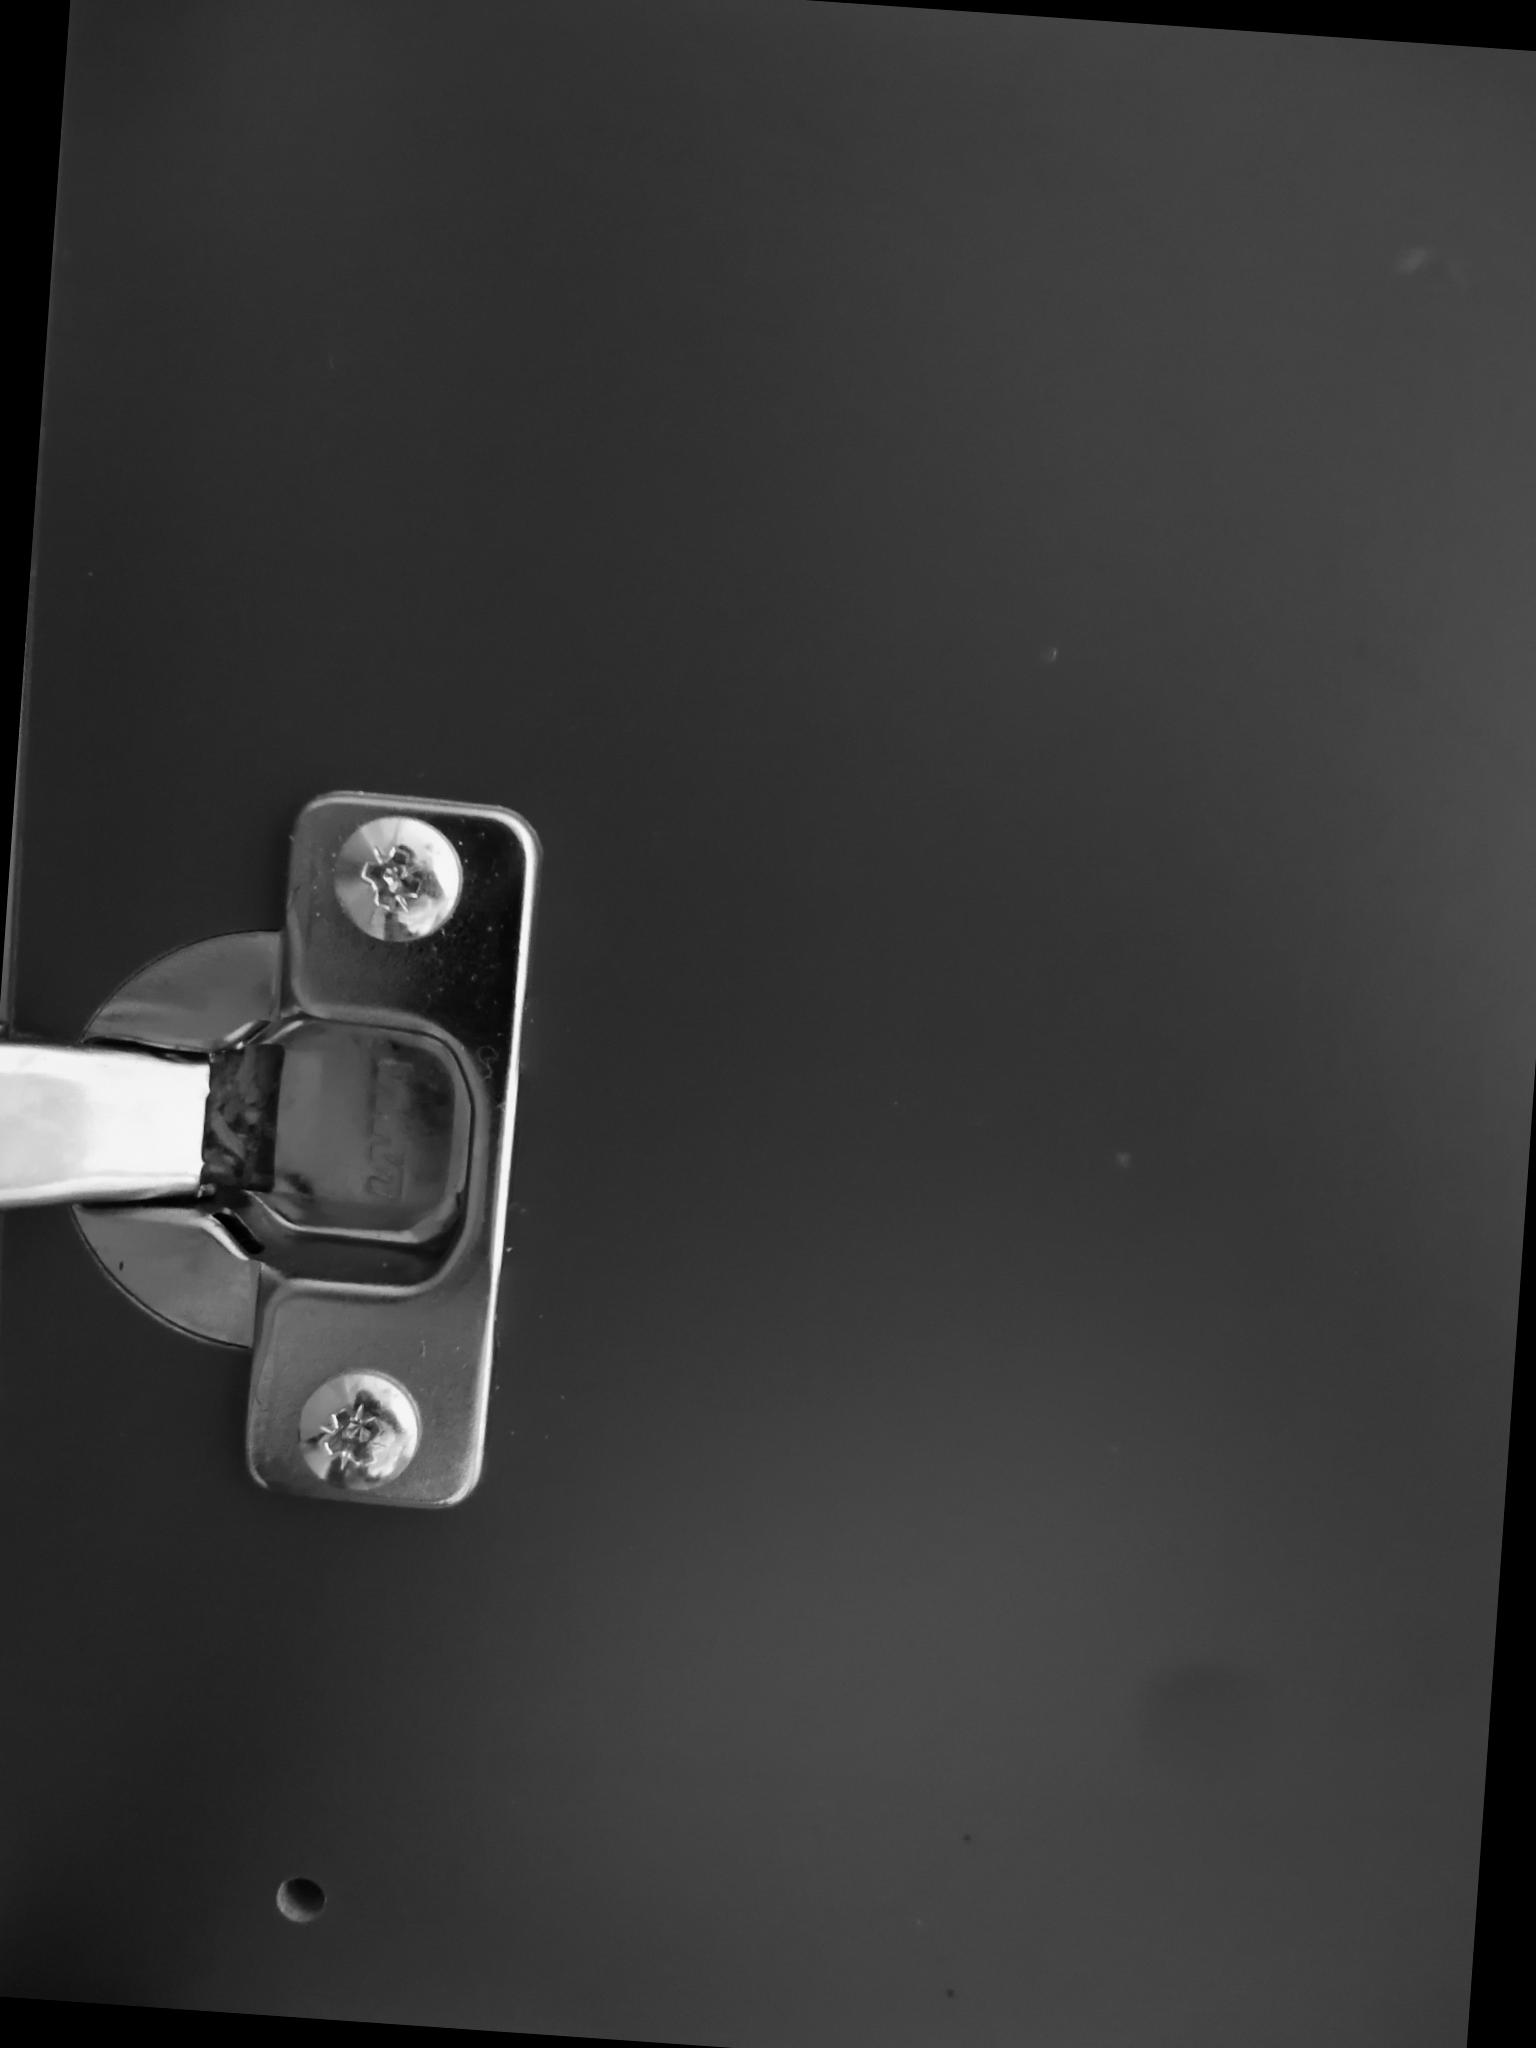screw: (318, 801, 474, 956), (284, 1364, 436, 1506)
